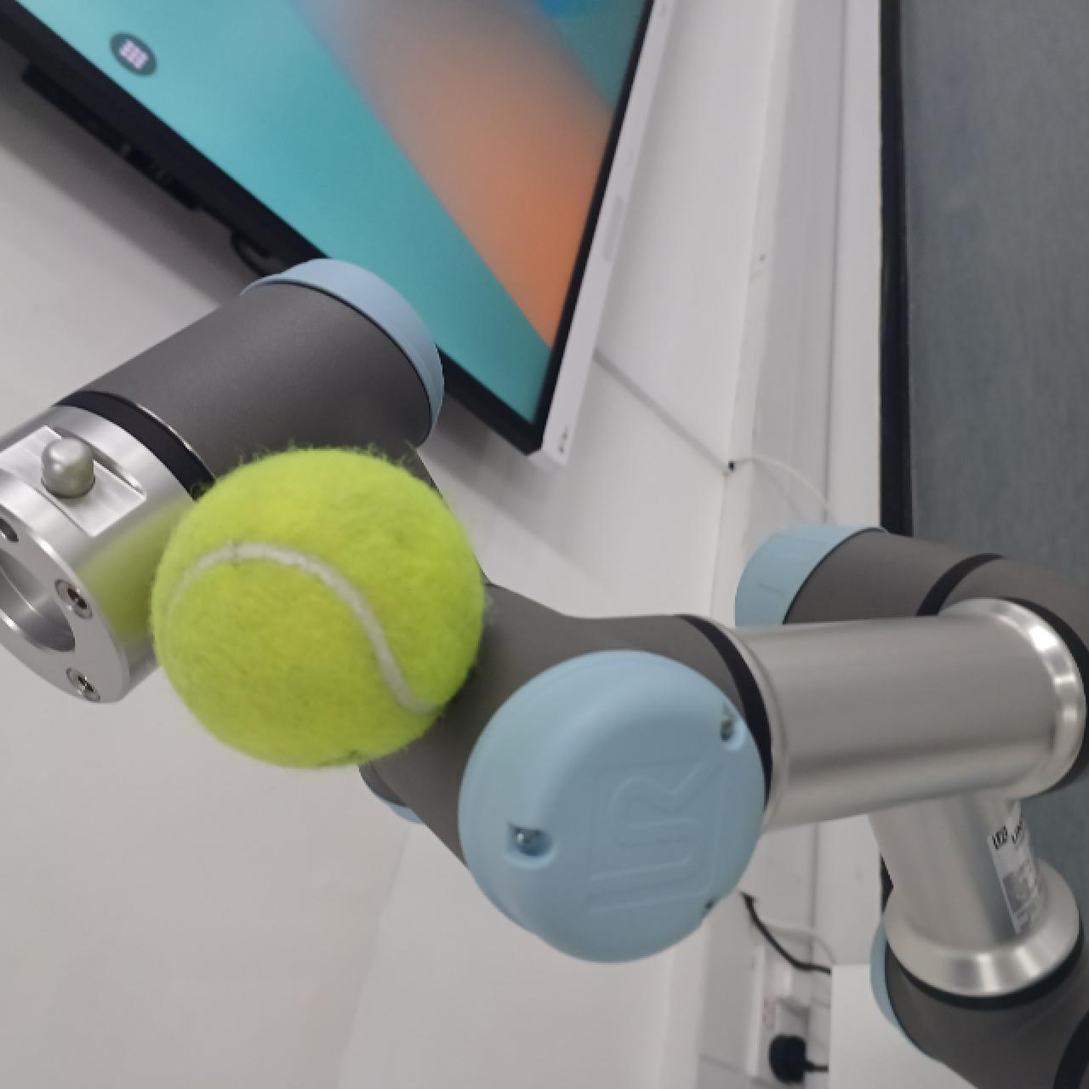tennis-ball: (145, 445, 487, 767)
